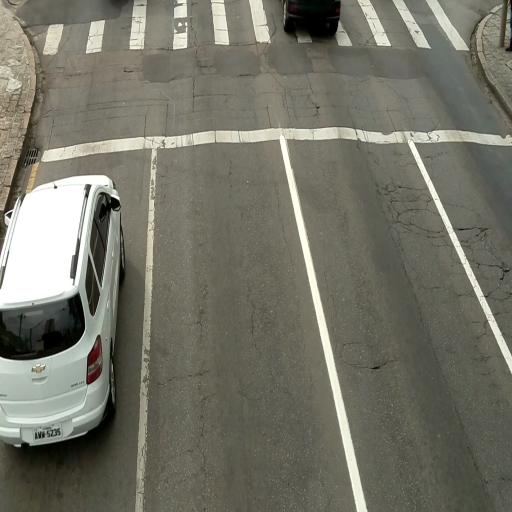car: (0, 174, 125, 446), (283, 1, 343, 36)
